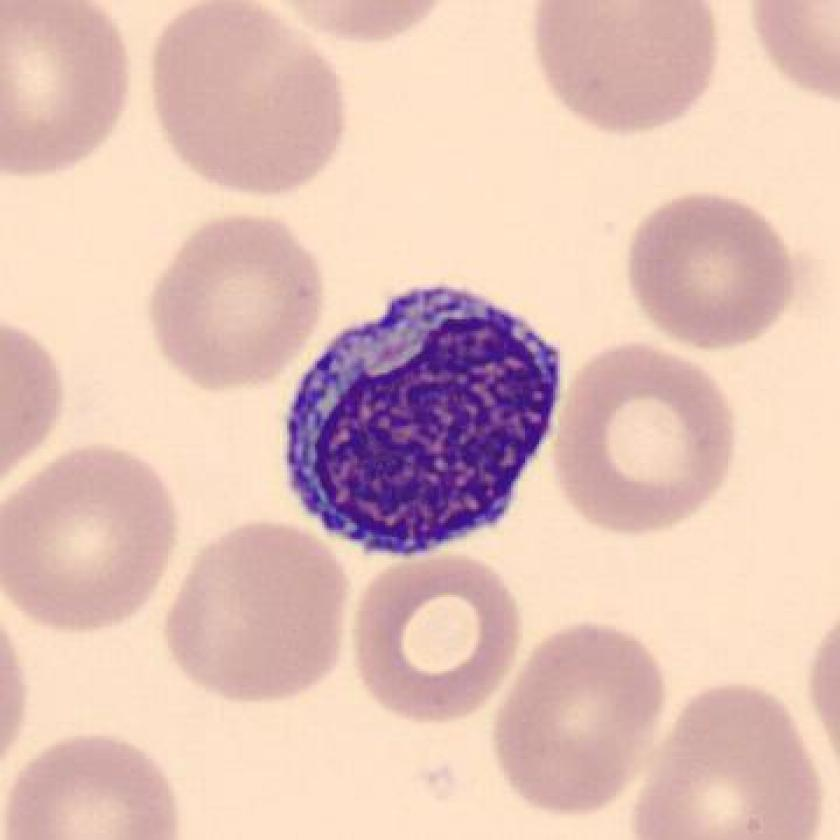lymphocyte: (274, 270, 570, 580)
